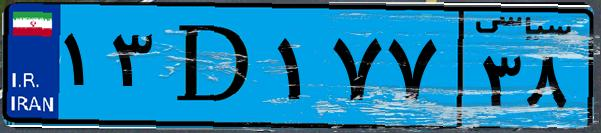1: (270, 28, 330, 110), (57, 26, 110, 100)
3: (475, 38, 525, 113), (110, 28, 158, 98)
7: (385, 28, 445, 110), (330, 28, 385, 110)
8: (525, 38, 570, 115)
D: (158, 12, 270, 120)
